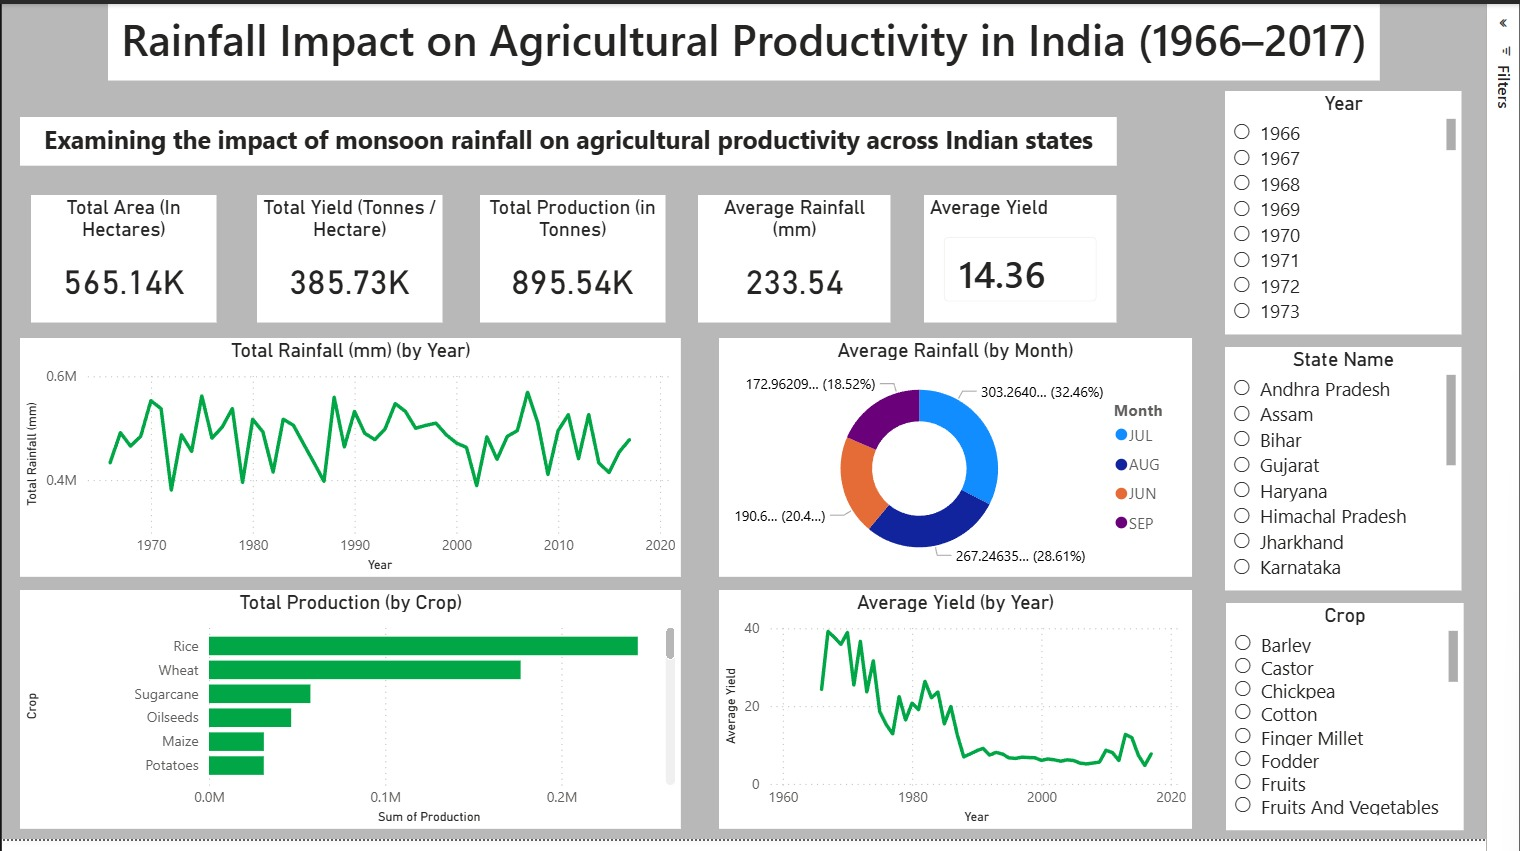

What the dashboard file says about the page in this screenshot:
{"tool":"powerbi","page":{"name":"KPIs and Trends","canvas":[1280,720],"ordinal":0},"visuals":[{"type":"textbox","box":[91.4,0,1097.1,66.1],"z":0},{"type":"textbox","box":[15.5,97.5,946.2,42.3],"z":1000},{"type":"listSlicer","fields":{"Values":["Dimension_Geography.State Name"]},"box":[1054.9,295.8,204.4,209.6],"z":2000},{"type":"listSlicer","fields":{"Values":["Fact_Agriculture.Year"]},"box":[1054.9,75,204.4,209.6],"z":3000},{"type":"card","title":"Average Rainfall (mm)","fields":{"Values":["Fact_Rainfall.Avg Rainfall"]},"box":[600.3,164.7,166.5,109.5],"z":4000},{"type":"card","title":"Total Production (in Tonnes)","fields":{"Values":["Sum(Fact_Agriculture.Production)"]},"box":[412.3,164.7,159.6,109.5],"z":5000},{"type":"card","title":"Total Yield (Tonnes / Hectare)","fields":{"Values":["Sum(Fact_Agriculture.Correct Yield)"]},"box":[219.9,164.7,159.6,109.5],"z":6000},{"type":"card","title":"Total Area (In Hectares)","fields":{"Values":["Sum(Fact_Agriculture.Area)"]},"box":[25,164.7,159.6,109.5],"z":7000},{"type":"lineChart","title":"Total Rainfall (mm) (by Year)","fields":{"Category":["Fact_Agriculture.Year"],"Y":["Fact_Agriculture.Total Rainfall (mm)"]},"box":[15.6,287.9,570,206.2],"z":8000},{"type":"donutChart","title":"Average Rainfall (by Month)","fields":{"Category":["Fact_Rainfall.Month"],"Y":["Fact_Rainfall.Avg Rainfall"]},"box":[618.6,287.9,407.5,206.2],"z":9000},{"type":"listSlicer","fields":{"Values":["Fact_Agriculture.Crop"]},"box":[1055.3,516.5,205.2,195.5],"z":10000},{"type":"clusteredBarChart","title":"Total Production (by Crop)","fields":{"Category":["Fact_Agriculture.Crop"],"Y":["Sum(Fact_Agriculture.Production)"]},"box":[15.6,505.8,570,206.2],"z":11000},{"type":"lineChart","title":"Average Yield (by Year)","fields":{"Category":["Fact_Agriculture.Year"],"Y":["Fact_Agriculture.Average Yield"]},"box":[618.6,505.8,407.5,206.2],"z":12000},{"type":"cardVisual","title":"Average Yield","fields":{"Data":["Fact_Agriculture.Average Yield"]},"box":[795.3,164.7,166.5,109.5],"z":13000}]}

Visuals, with their boxes on the page's 1280x720 design canvas (x1, y1, x2, y2). These are canvas units, not pixel positions in the 1520x851 screenshot, which may show the page scaled, cropped or inside an application window:
textbox: (91, 0, 1188, 66)
textbox: (16, 98, 962, 140)
listSlicer - Dimension_Geography.State Name: (1055, 296, 1259, 505)
listSlicer - Fact_Agriculture.Year: (1055, 75, 1259, 285)
"Average Rainfall (mm)" card: (600, 165, 767, 274)
"Total Production (in Tonnes)" card: (412, 165, 572, 274)
"Total Yield (Tonnes / Hectare)" card: (220, 165, 380, 274)
"Total Area (In Hectares)" card: (25, 165, 185, 274)
"Total Rainfall (mm) (by Year)" lineChart: (16, 288, 586, 494)
"Average Rainfall (by Month)" donutChart: (619, 288, 1026, 494)
listSlicer - Fact_Agriculture.Crop: (1055, 516, 1260, 712)
"Total Production (by Crop)" clusteredBarChart: (16, 506, 586, 712)
"Average Yield (by Year)" lineChart: (619, 506, 1026, 712)
"Average Yield" cardVisual: (795, 165, 962, 274)
